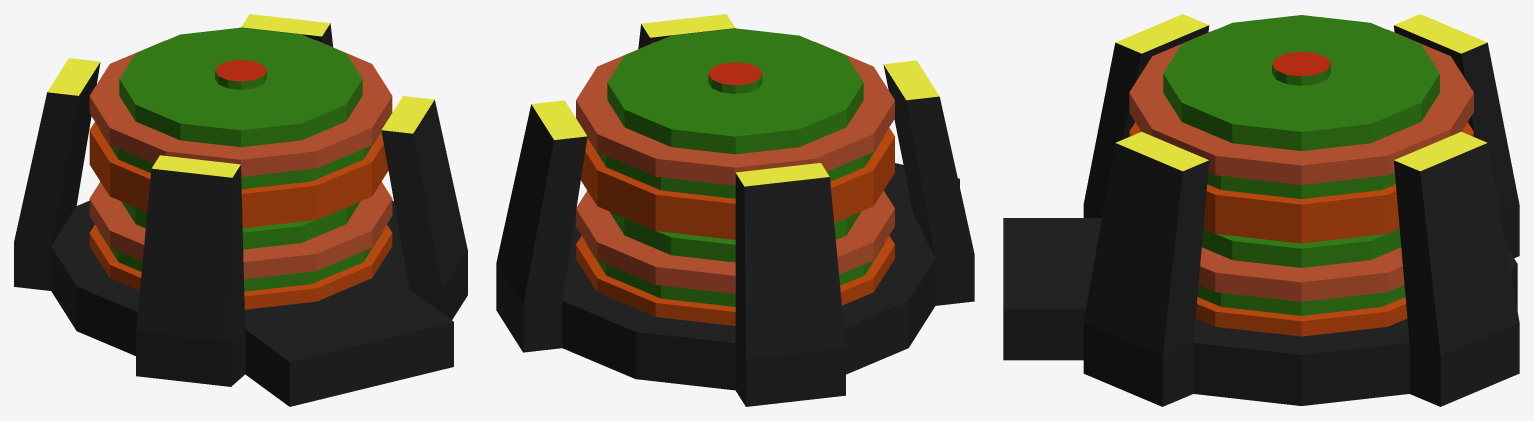
Rendered from MineDispenser.fbx.
The picture shows the model from 3 angles, left to right: view 1: azimuth 30°, elevation 25°; view 2: azimuth 150°, elevation 25°; view 3: azimuth 270°, elevation 25°; orthographic projection. The views are drawn at different scales.
Parts seen in each view (by area): view 1: Dispenser, Mine_2, Mine_1; view 2: Dispenser, Mine_2, Mine_1; view 3: Dispenser, Mine_2, Mine_1.
Boxes of the visible parts, left/top/right/bottom form: Dispenser: left=14, top=14, right=467, bottom=406; Mine_2: left=89, top=27, right=392, bottom=228; Mine_1: left=89, top=181, right=392, bottom=309; Dispenser: left=496, top=14, right=974, bottom=406; Mine_2: left=576, top=28, right=894, bottom=239; Mine_1: left=576, top=190, right=894, bottom=325; Dispenser: left=1003, top=14, right=1519, bottom=406; Mine_2: left=1129, top=15, right=1473, bottom=243; Mine_1: left=1195, top=229, right=1407, bottom=336.
Size of the model in its own units: 1.49 by 0.9485 by 1.77.
